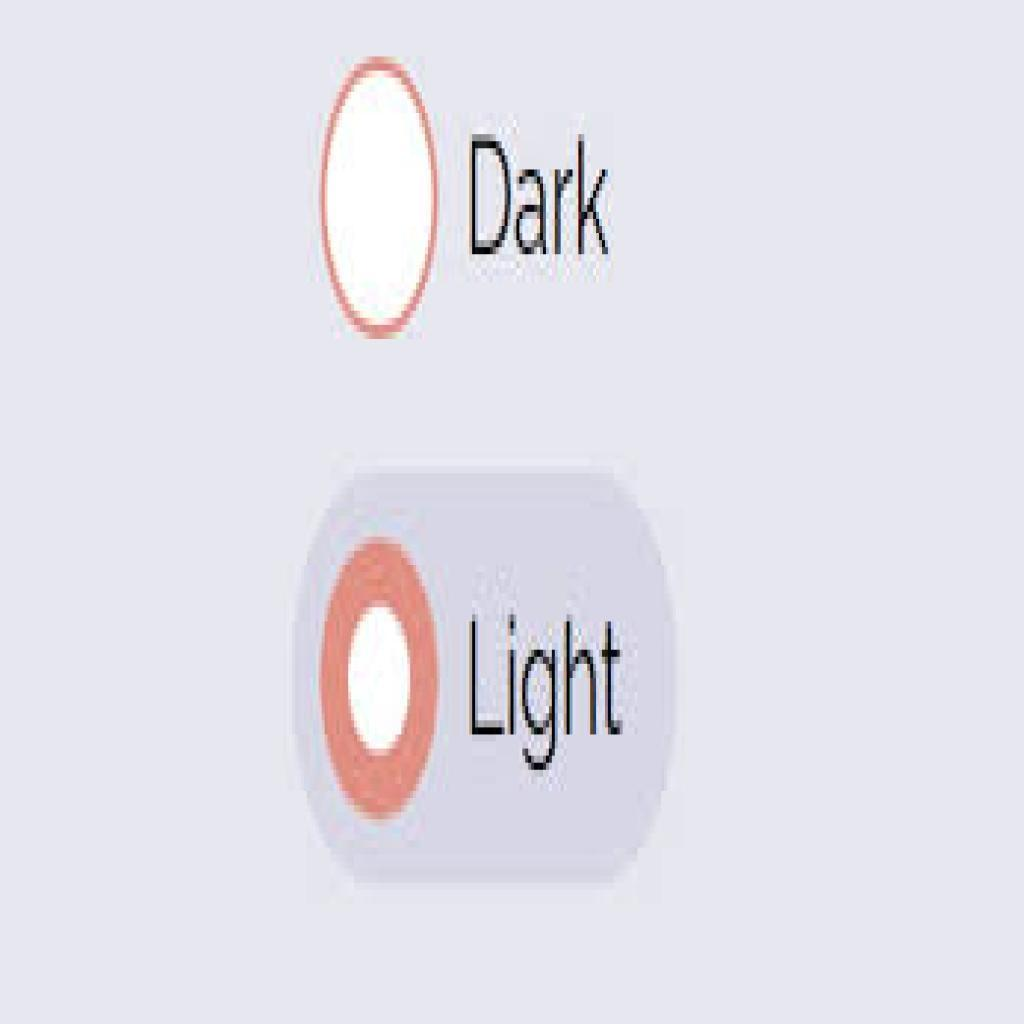label: (455, 610, 636, 753), (461, 128, 626, 269)
radio: (315, 532, 446, 826), (314, 56, 442, 343)
